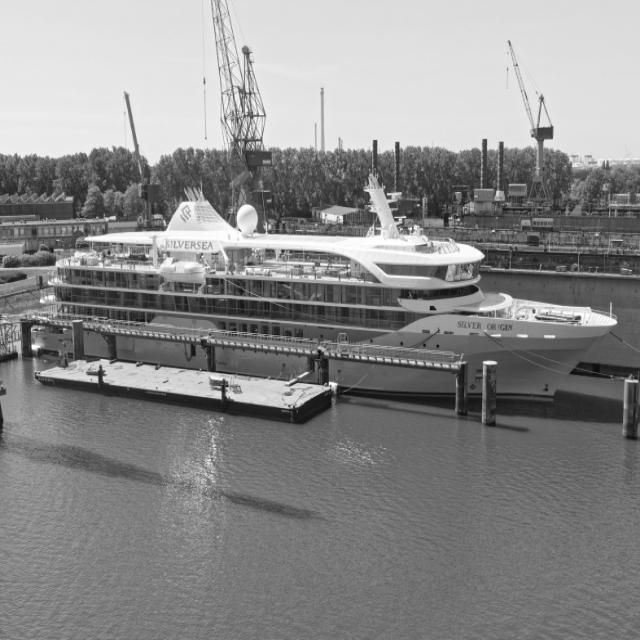cruises: (35, 171, 623, 412)
